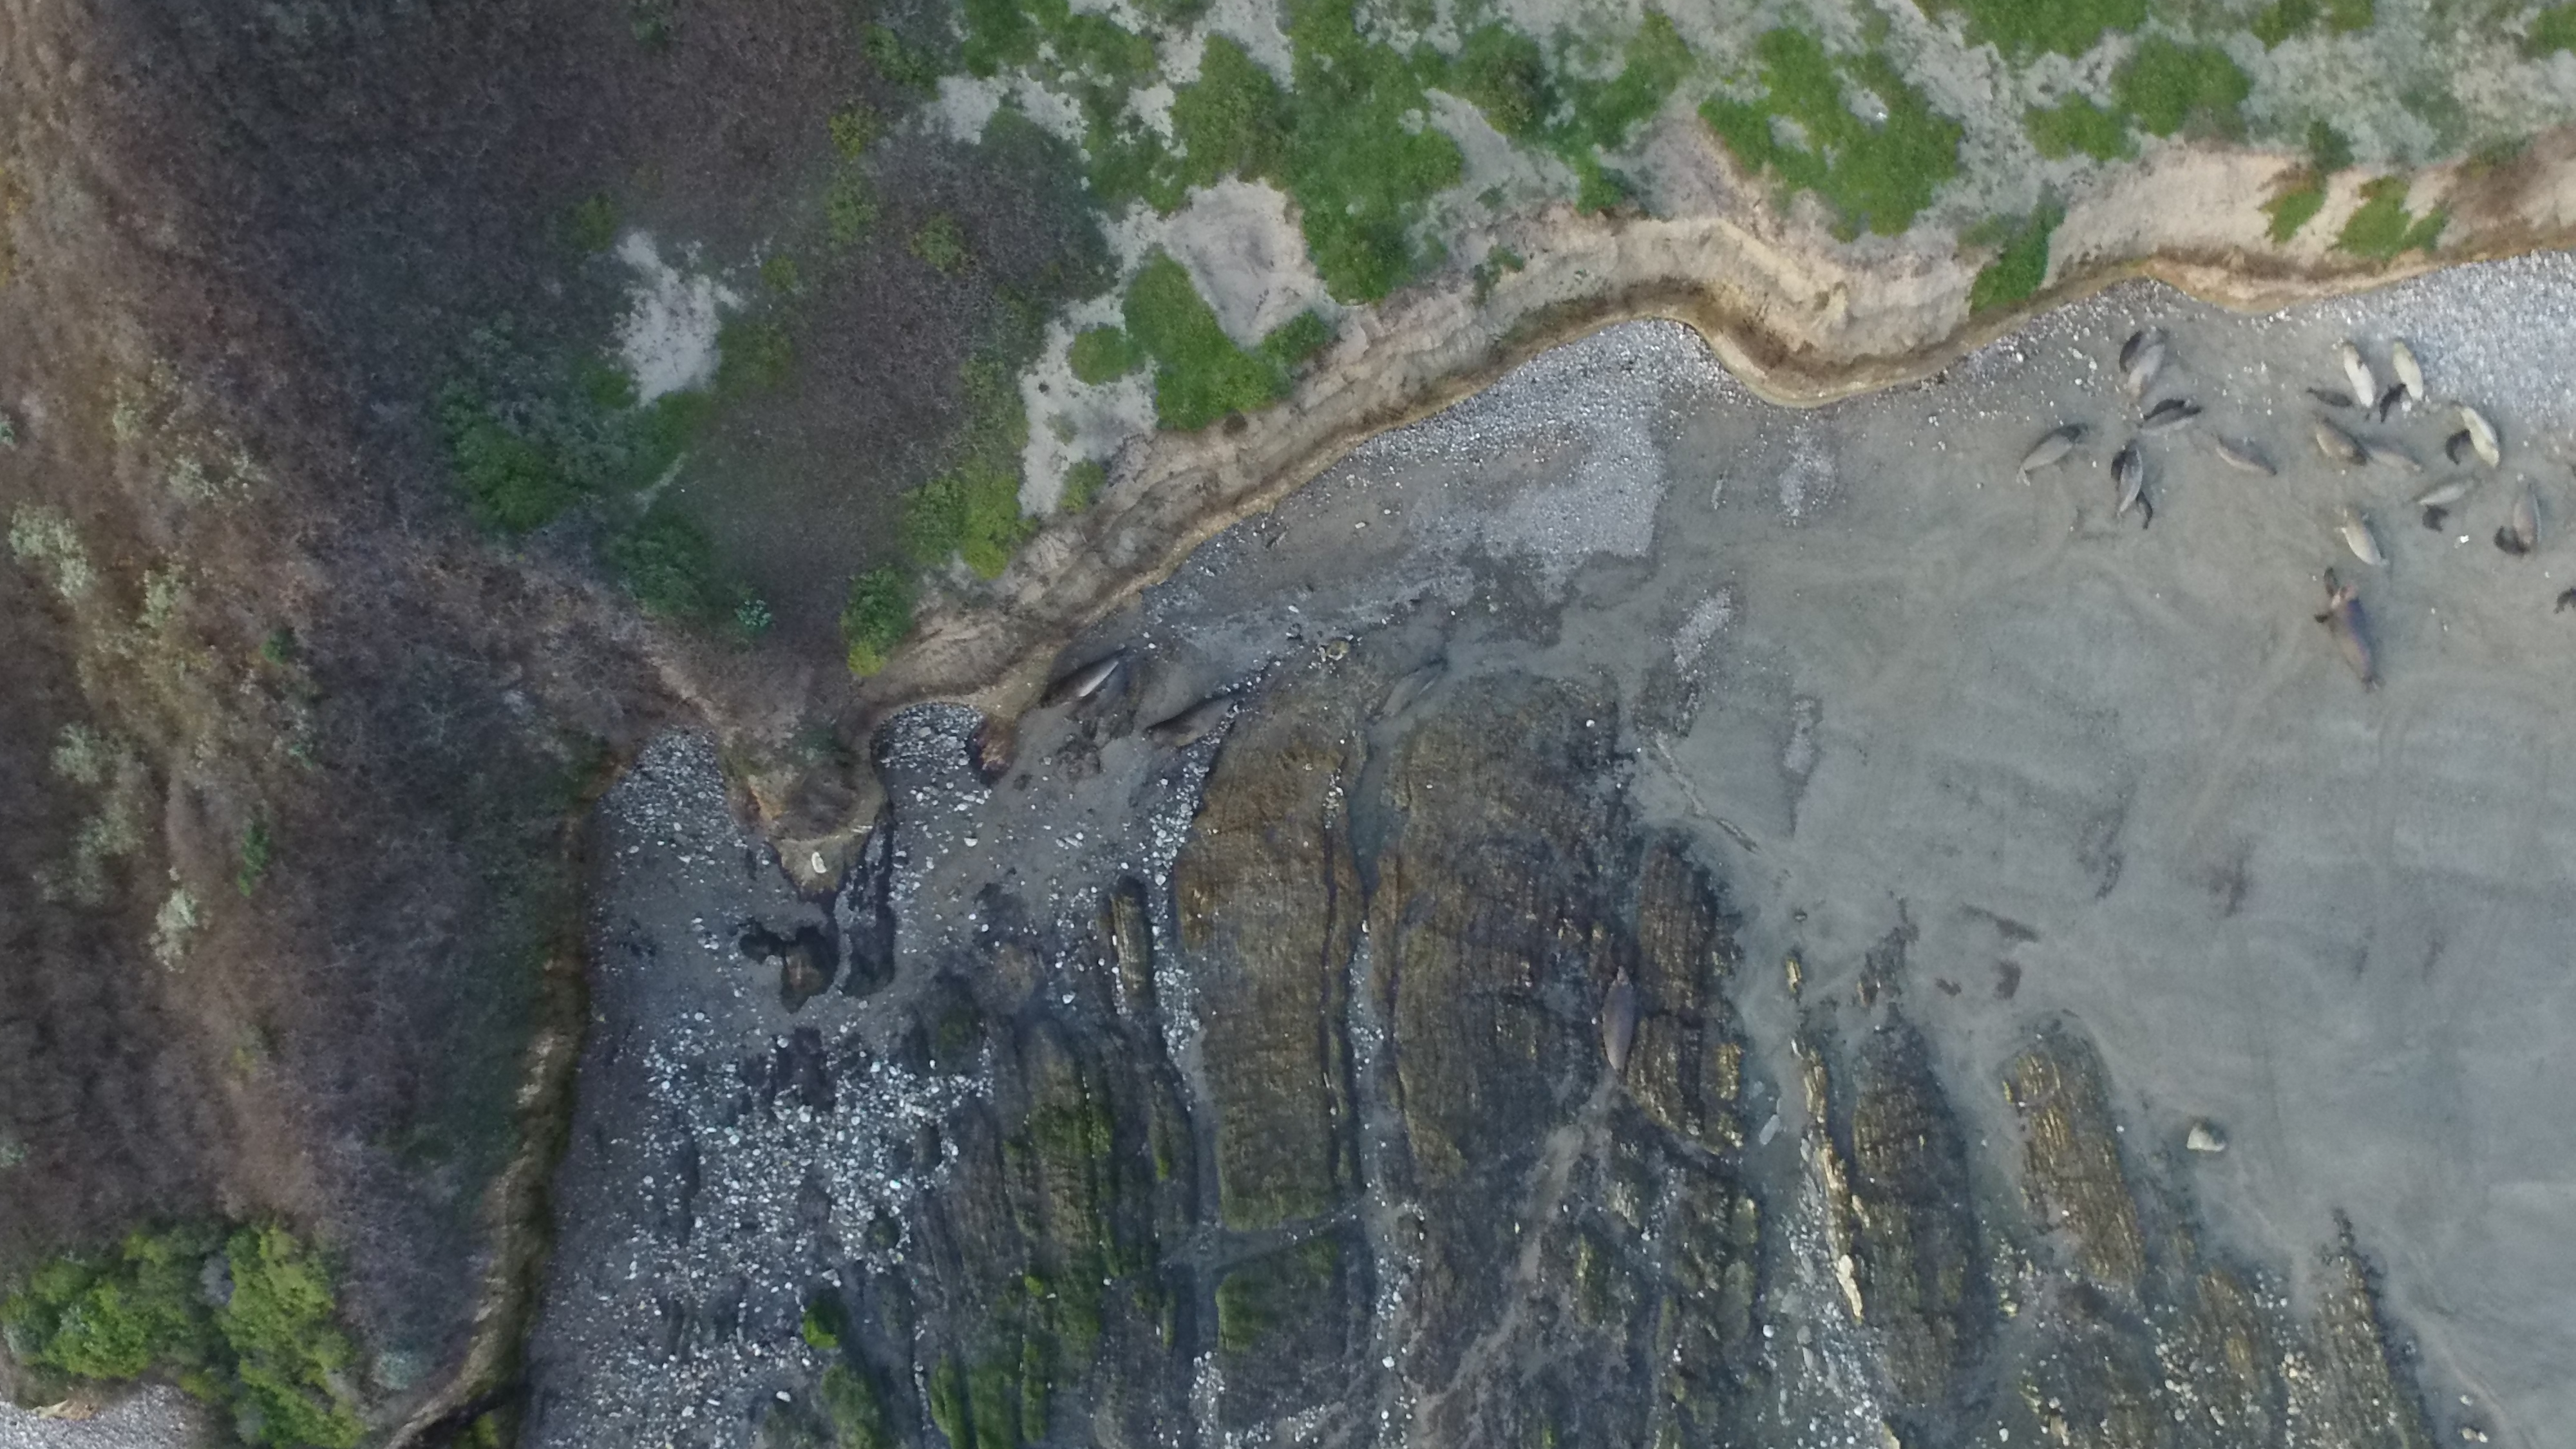adult male: (2316, 580, 2385, 692), (1143, 686, 1247, 748), (1040, 646, 1132, 709), (1601, 966, 1637, 1076)
male juvenile / female juvenile / adult female: (2017, 423, 2088, 485), (2334, 504, 2390, 570), (2452, 402, 2502, 471), (2128, 331, 2169, 405), (2314, 412, 2367, 469), (2215, 433, 2279, 478), (2342, 341, 2376, 419), (2358, 435, 2426, 474), (2390, 338, 2424, 407), (2139, 405, 2203, 437), (2413, 478, 2480, 506), (2118, 444, 2143, 518), (2514, 485, 2541, 547), (2493, 525, 2528, 559), (2323, 566, 2339, 600)
pup: (2118, 331, 2144, 373), (2380, 384, 2406, 423), (2144, 400, 2187, 421), (2445, 430, 2470, 465), (2309, 387, 2353, 407), (2135, 488, 2153, 531), (2422, 506, 2449, 531), (2111, 451, 2127, 487)
